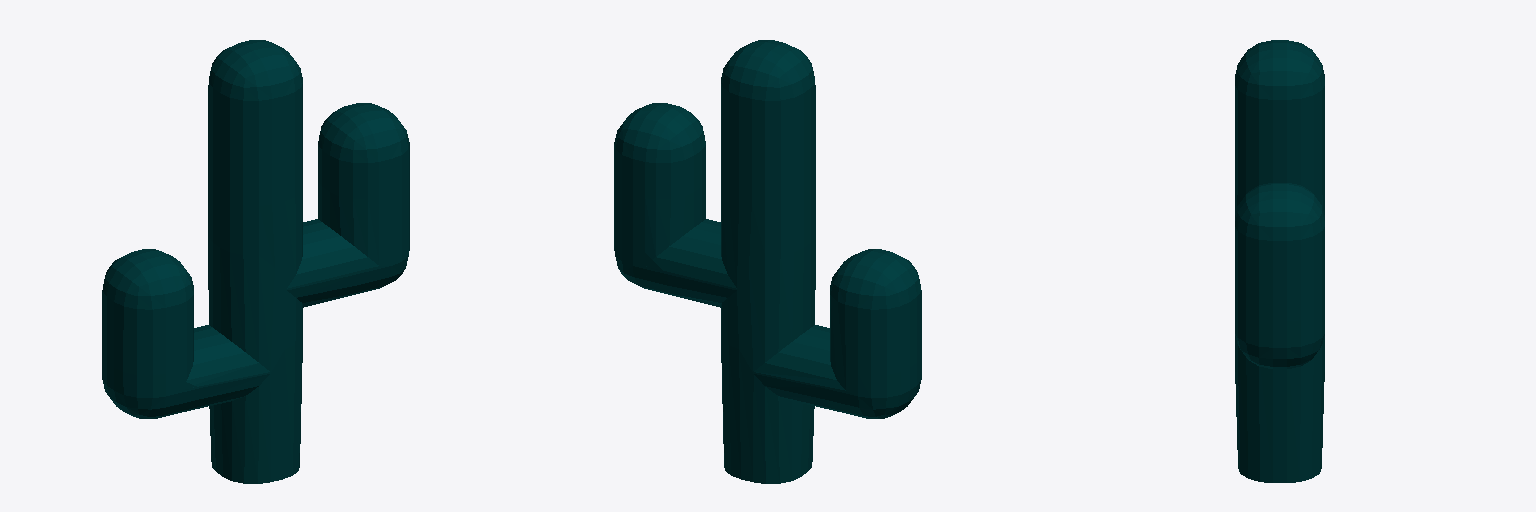
File: tree_desert.obj
The picture shows the model from 3 angles: view 1: azimuth 30°, elevation 25°; view 2: azimuth 150°, elevation 25°; view 3: azimuth 270°, elevation 25°; orthographic projection.
Visible parts, largest first — view 1: tree_desert_Cube.1232; view 2: tree_desert_Cube.1232; view 3: tree_desert_Cube.1232.
Part boxes in pixels (x1,y1,x2,y2): tree_desert_Cube.1232: (102,40,409,483); tree_desert_Cube.1232: (614,40,921,483); tree_desert_Cube.1232: (1235,40,1324,482).
Size of the model in its own units: 2.04 by 2.8 by 0.5512.